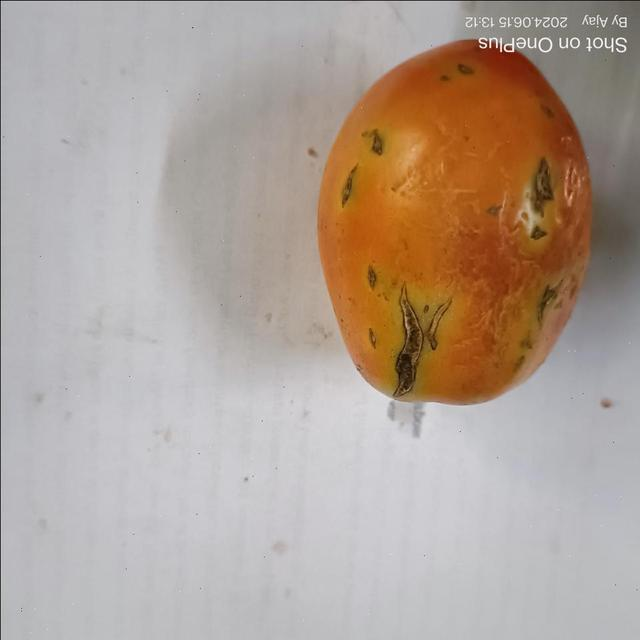Bacterial Spot Fruit: (12, 21, 361, 229)
